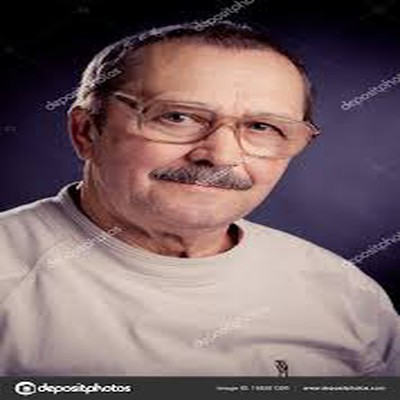eywear: (115, 60, 318, 180)
